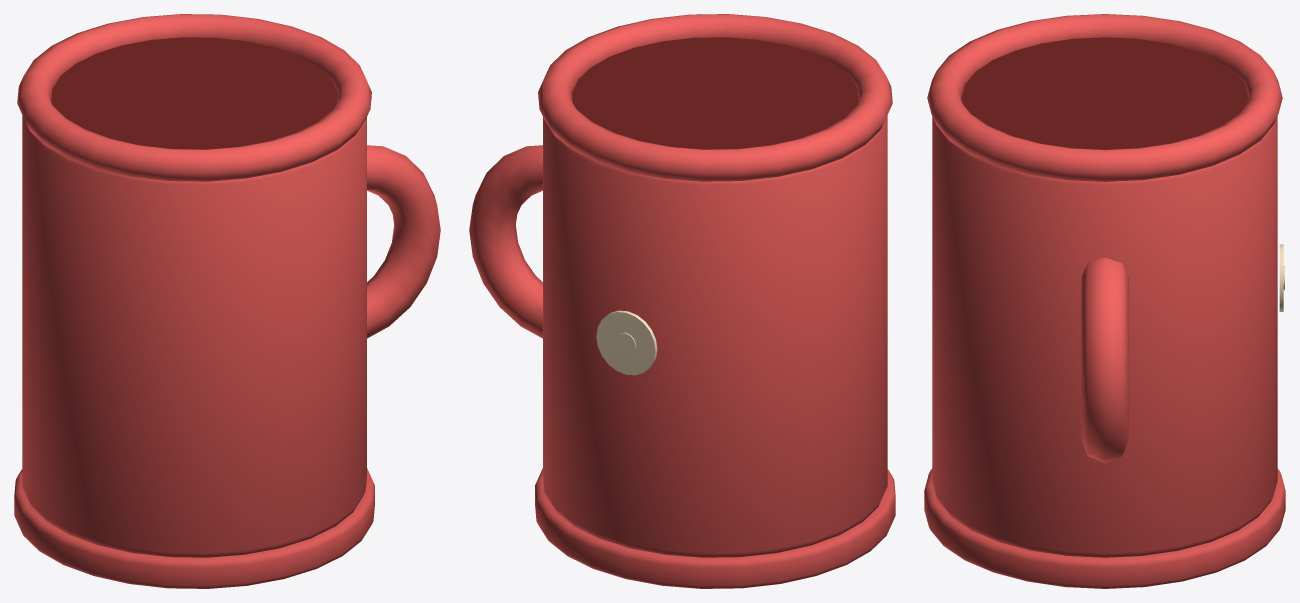
File: prop_mug_v2.glb
The picture shows the model from 3 angles, left to right: view 1: azimuth 30°, elevation 25°; view 2: azimuth 150°, elevation 25°; view 3: azimuth 270°, elevation 25°; orthographic projection.
Visible parts, largest first — view 1: MugV2; view 2: MugV2; view 3: MugV2.
Boxes of the visible parts, x1=… form: MugV2: x1=14, y1=14, x2=440, y2=588; MugV2: x1=469, y1=14, x2=895, y2=588; MugV2: x1=924, y1=14, x2=1285, y2=588.
Bounding box in the file's own units: 2.3 × 2.38 × 1.8.
